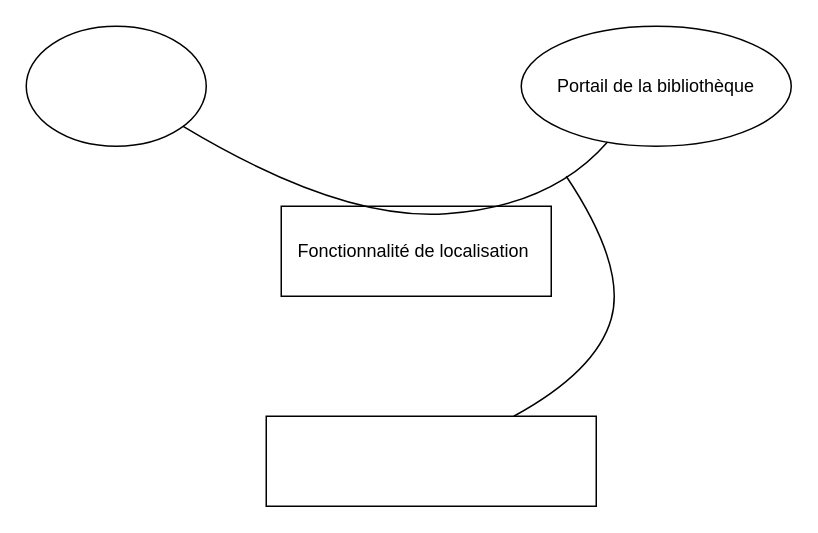
Some shapes in this 818 by 533 pixel diagram are drawn without their labels. The centre of each missing label's shape, as x and y in pixels:
"Lecteur" belongs at point (115, 85).
"Trouver un exemplaire dans une bibliothèque" belongs at point (430, 460).
